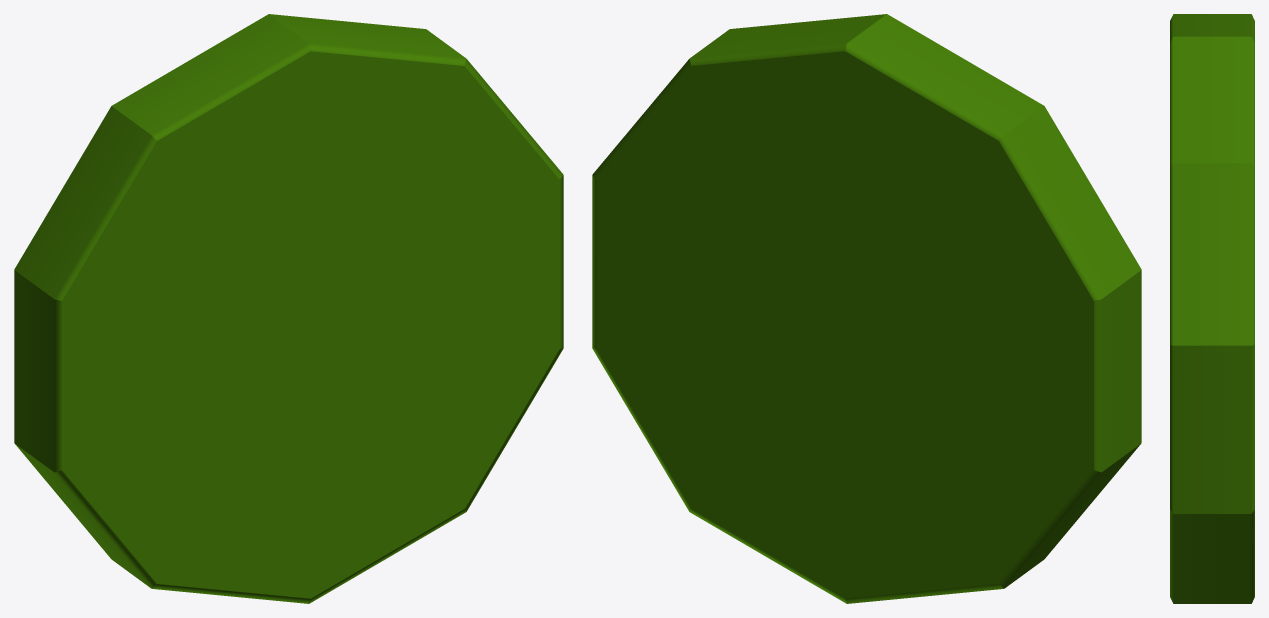
File: Code_Cylinder_10xFaces.fbx
The picture shows the model from 3 angles, left to right: view 1: azimuth 30°, elevation 25°; view 2: azimuth 150°, elevation 25°; view 3: azimuth 270°, elevation 25°; orthographic projection. The views are drawn at different scales.
Parts seen in each view (by area): view 1: Code_Cylinder_10xFaces; view 2: Code_Cylinder_10xFaces; view 3: Code_Cylinder_10xFaces.
Part boxes in pixels (bbox=[...]): Code_Cylinder_10xFaces: bbox=[14, 14, 563, 603]; Code_Cylinder_10xFaces: bbox=[592, 14, 1141, 603]; Code_Cylinder_10xFaces: bbox=[1170, 14, 1254, 603].
Bounding box in the file's own units: 49.03 × 51.56 × 7.28.
